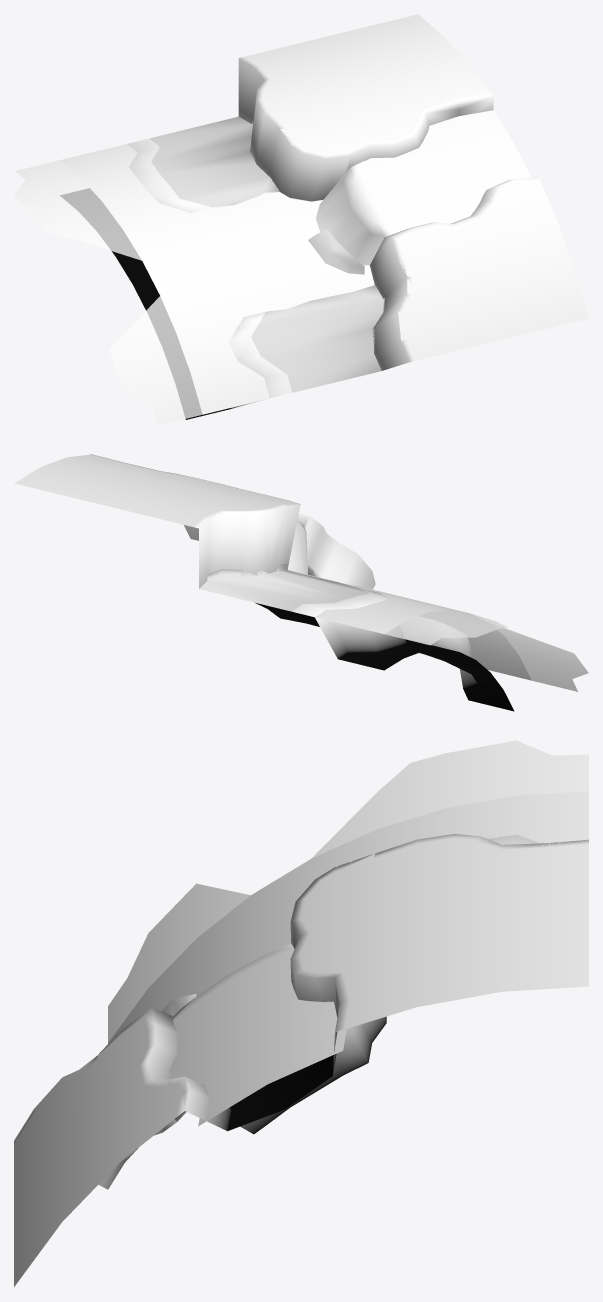
The model's file is grd_Mw_R_0.dae.
3 renders of one model, top to bottom at view 1: azimuth 30°, elevation 25°; view 2: azimuth 150°, elevation 25°; view 3: azimuth 270°, elevation 25°, orthographic. The views are drawn at different scales.
Parts seen in each view (by area): view 1: grd_Mw_R_0; view 2: grd_Mw_R_0; view 3: grd_Mw_R_0.
Boxes of the visible parts, left/top/right/bottom form: grd_Mw_R_0: left=14, top=14, right=588, bottom=425; grd_Mw_R_0: left=14, top=454, right=588, bottom=711; grd_Mw_R_0: left=14, top=740, right=588, bottom=1286.
Size of the model in its own units: 608 by 308 by 423.
Materials: 10 (1 with a texture image).
